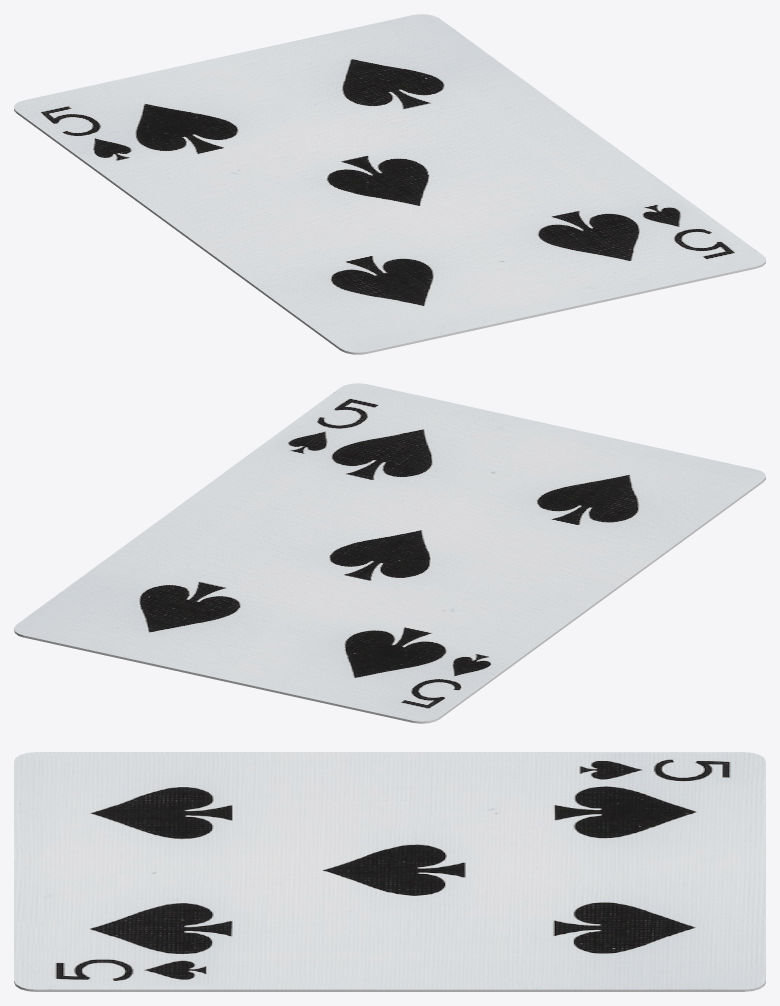
File: spades5.fbx
3 views of the same model, one above another, from view 1: azimuth 30°, elevation 25°; view 2: azimuth 150°, elevation 25°; view 3: azimuth 270°, elevation 25° (orthographic). The views are drawn at different scales.
Visible parts, largest first — view 1: Spades_5_6; view 2: Spades_5_6; view 3: Spades_5_6.
Boxes of the visible parts, box(x1,y1,x2,y2) form: Spades_5_6: box(14, 14, 765, 354); Spades_5_6: box(14, 383, 765, 723); Spades_5_6: box(14, 752, 765, 991).
Bounding box in the file's own units: 6.26 × 0.1776 × 8.8.
